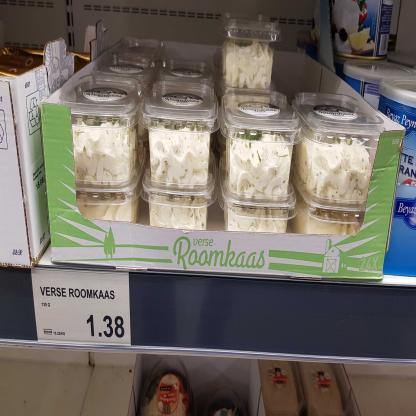prtg: (32, 269, 133, 348)
